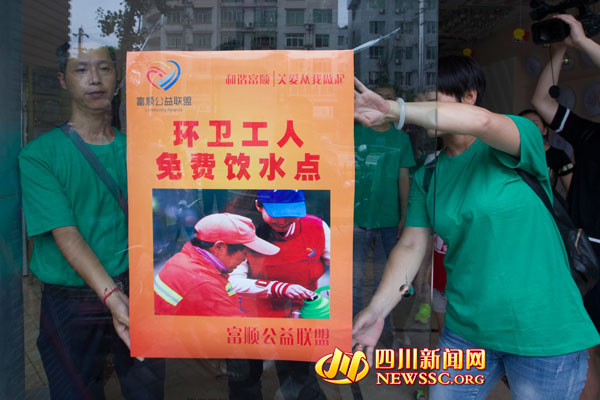bill: (127, 50, 353, 367)
